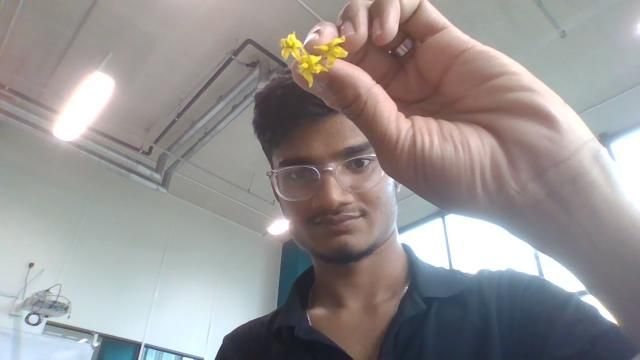Anthesis: (312, 35, 348, 68), (296, 52, 327, 87), (279, 32, 306, 62), (302, 73, 314, 89)
